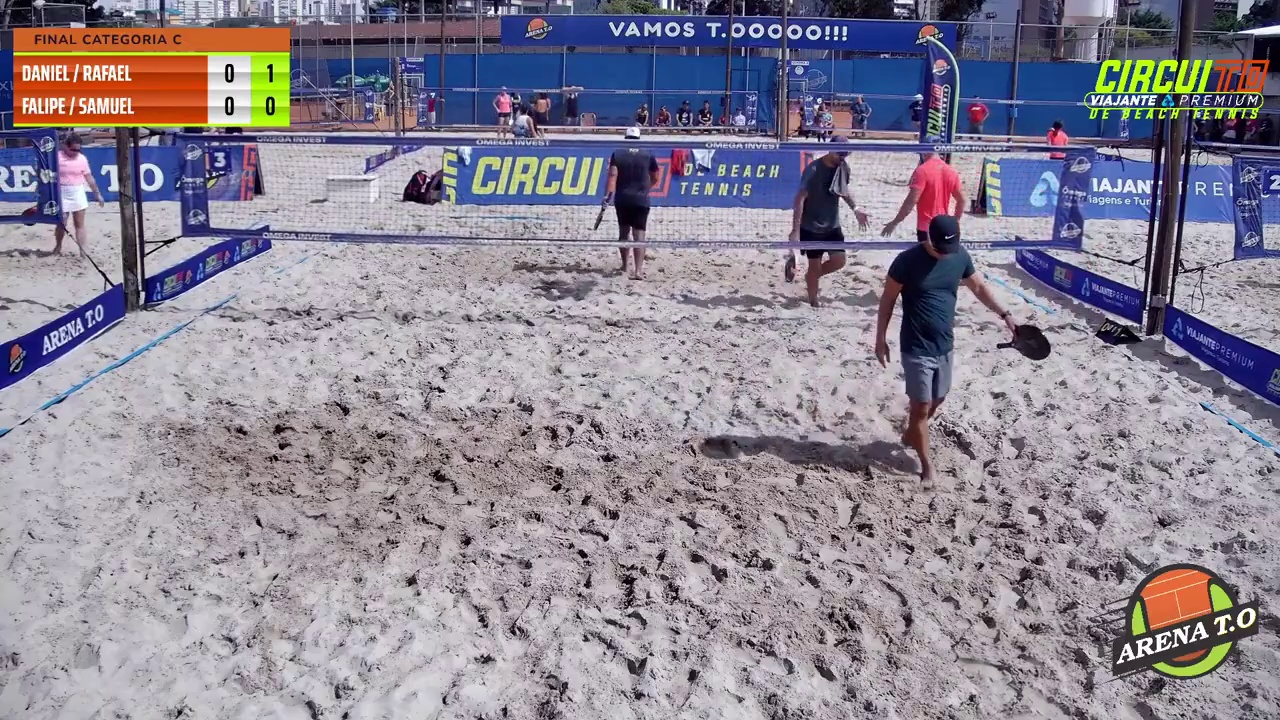court_line: (637, 0, 798, 396)
